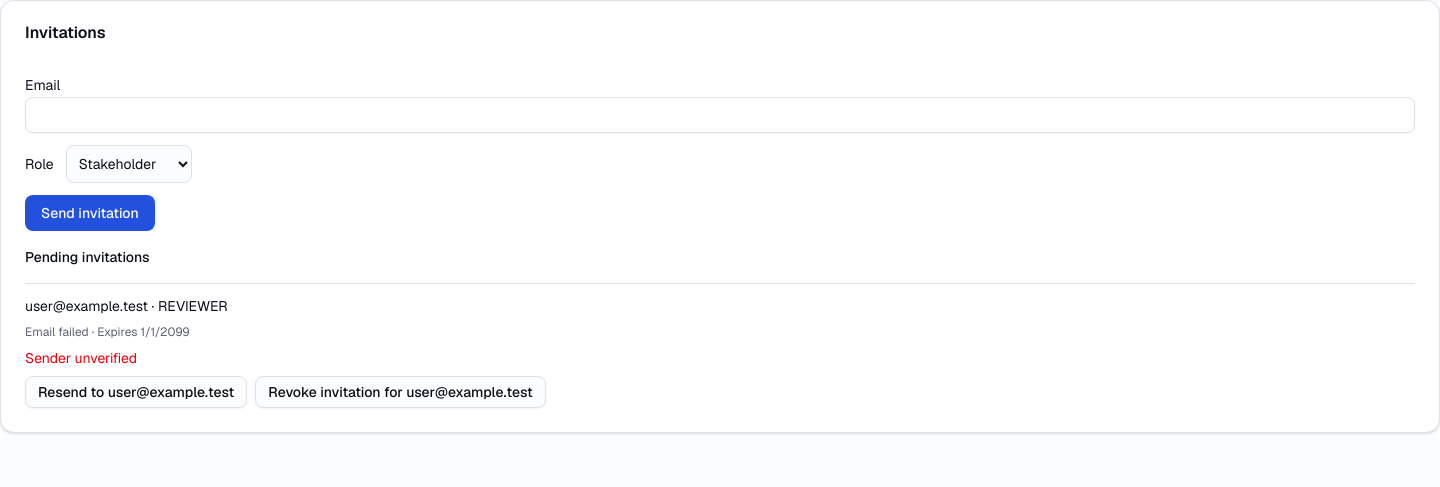
Scenario: invitations settings › shows delivery failures and permits resending pending invitations
Check: the text "Sender unverified" is shown, box [25,349,137,367]
Click the button "Resend to user@example.test": [136, 392] box [25,376,247,408]
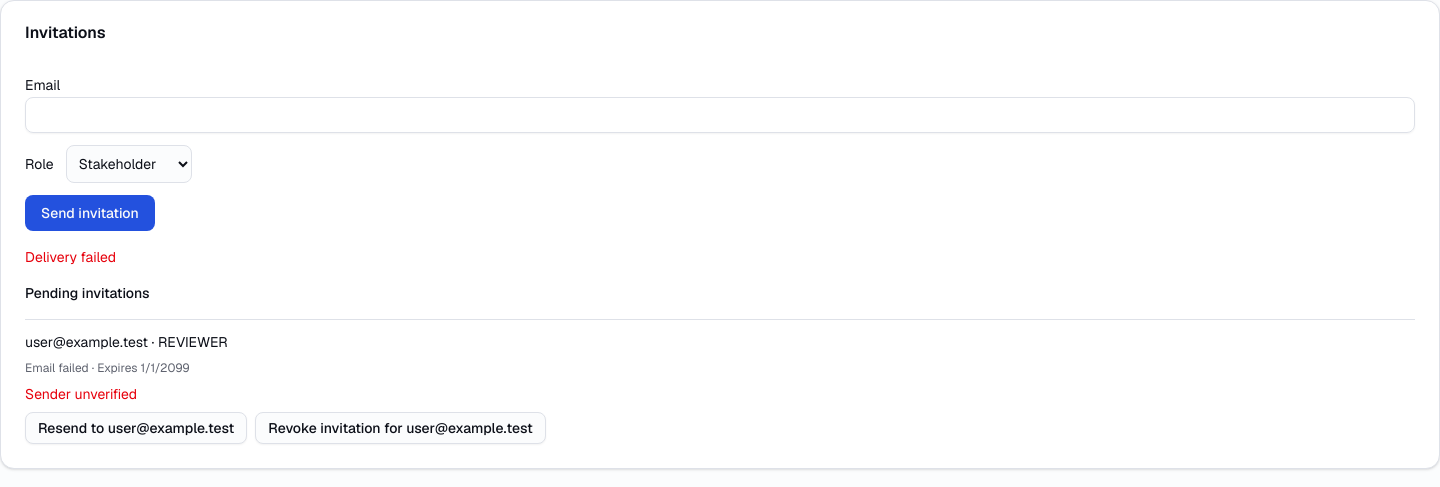
Check: the message reads "Delivery failed", box [25,248,116,266]
